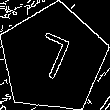L_SW: (29, 29, 77, 88)
